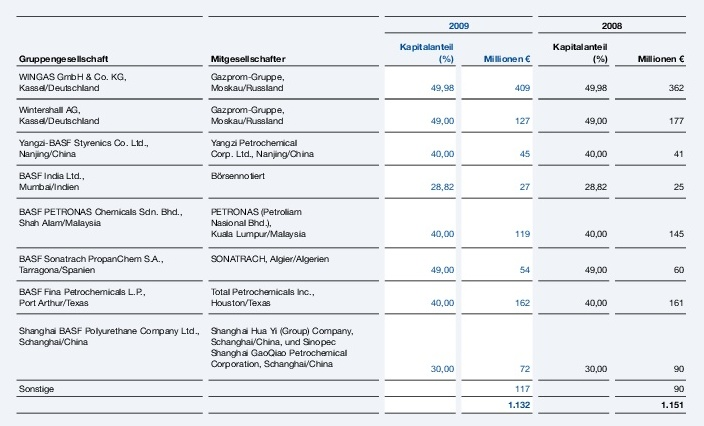table: (0, 0, 704, 426)
